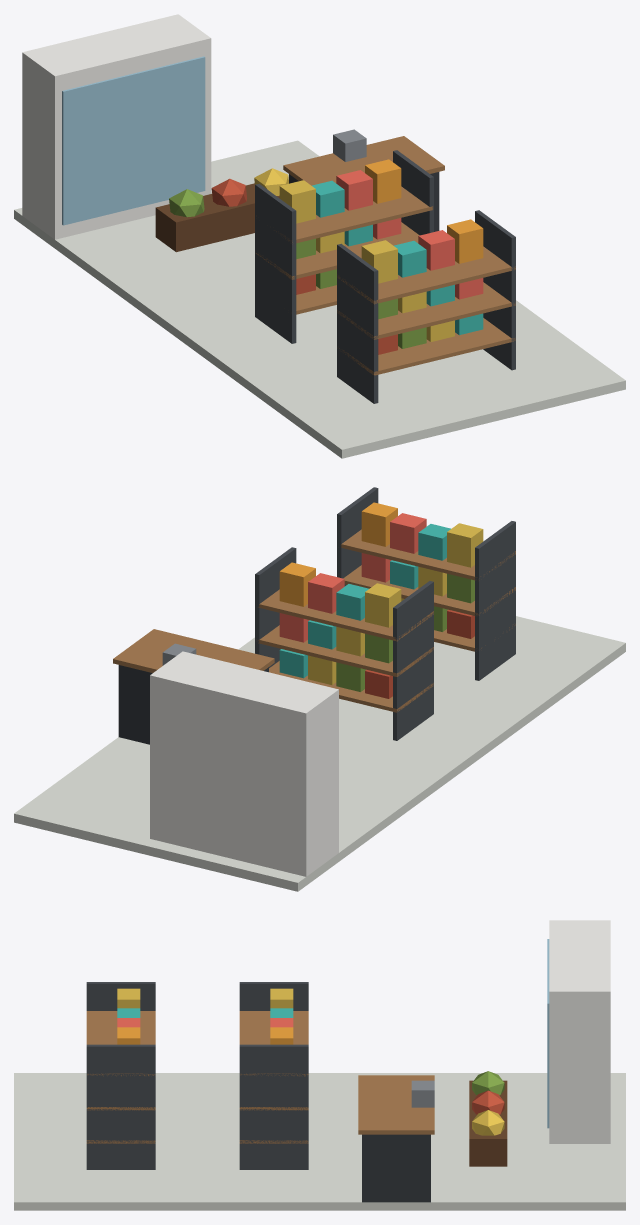
Rendered from interior.grocery.glb.
The picture shows the model from 3 angles, top to bottom: view 1: azimuth 30°, elevation 25°; view 2: azimuth 150°, elevation 25°; view 3: azimuth 270°, elevation 25°; orthographic projection. The views are drawn at different scales.
Parts seen in each view (by area): view 1: interior.grocery; view 2: interior.grocery; view 3: interior.grocery.
Part boxes in pixels (x1,y1,x2,y2): interior.grocery: (14, 14, 625, 458); interior.grocery: (14, 487, 625, 891); interior.grocery: (14, 920, 625, 1210).
Bounding box in the file's own units: 4.05 × 2.32 × 8.
